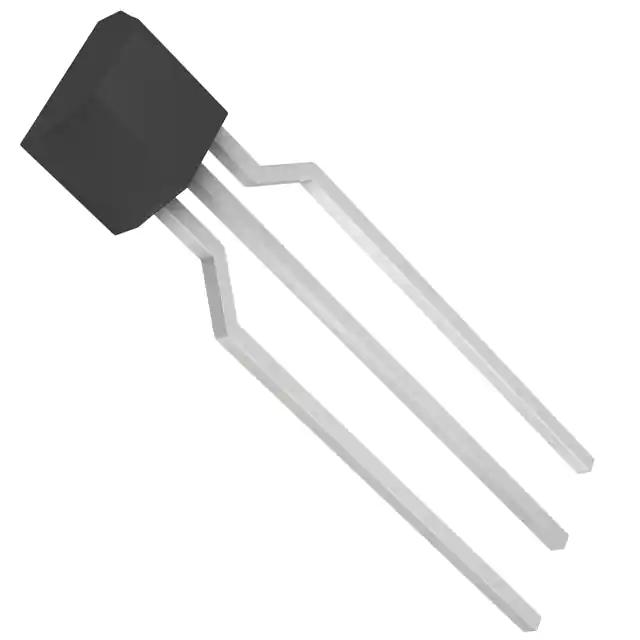Transistor: (26, 11, 576, 631)
